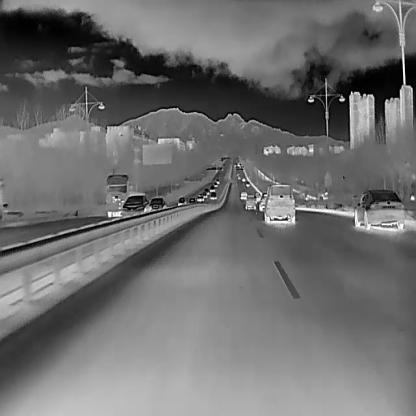car: (353, 188, 405, 230), (105, 174, 146, 218), (264, 184, 295, 224), (121, 194, 150, 216), (150, 197, 167, 211), (259, 192, 270, 210), (244, 195, 256, 210), (177, 197, 187, 205), (239, 190, 247, 199), (254, 192, 261, 201), (197, 194, 204, 202), (210, 191, 216, 199), (189, 197, 195, 204), (245, 180, 251, 187), (202, 191, 207, 198), (204, 187, 209, 194), (237, 175, 242, 180), (216, 178, 220, 184), (241, 176, 245, 182), (210, 185, 214, 190), (213, 181, 217, 186), (222, 163, 225, 168)
